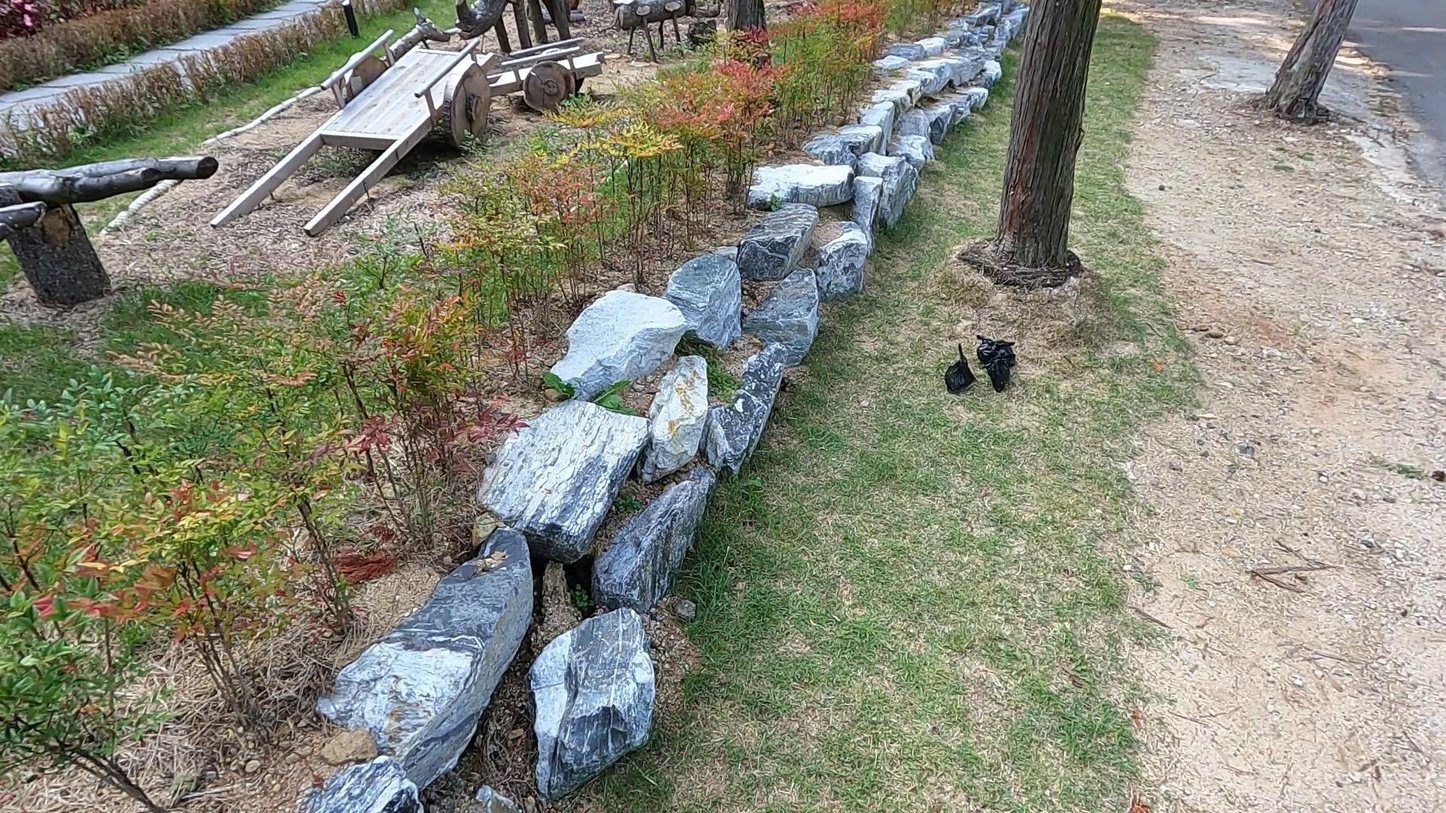trash: (974, 328, 1022, 371), (943, 339, 977, 396), (982, 350, 1015, 394)
